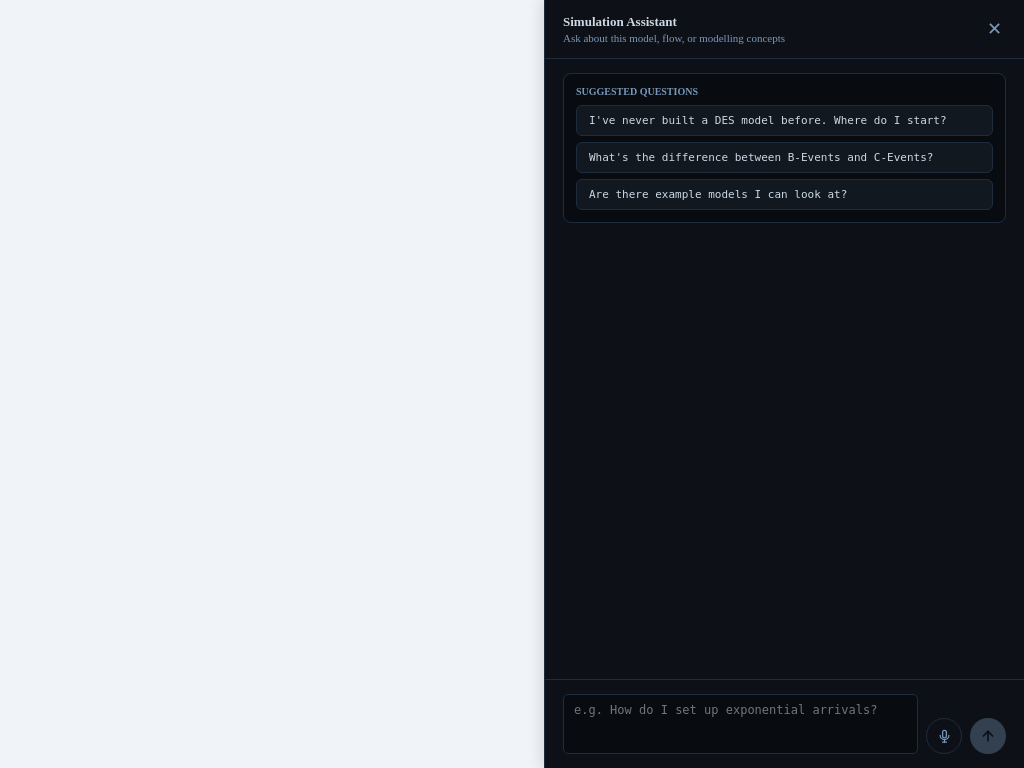
Test: HelpAssistant › assistant response appears after LLM returns
Type "Test question" into the text box named "Your question" at (740, 724), box [563,694,918,754]
Then press Enter
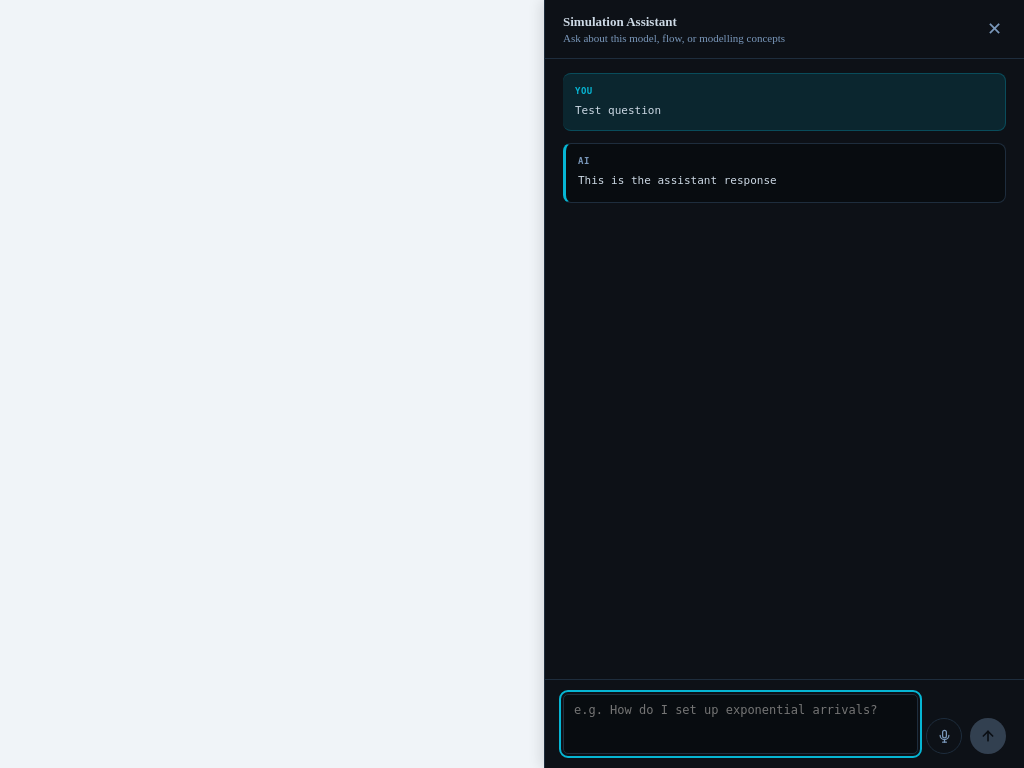
Expected: the text "AI" is shown, [578,156,590,166]
Expected: the text "This is the assistant response" is shown, [578,174,777,187]
